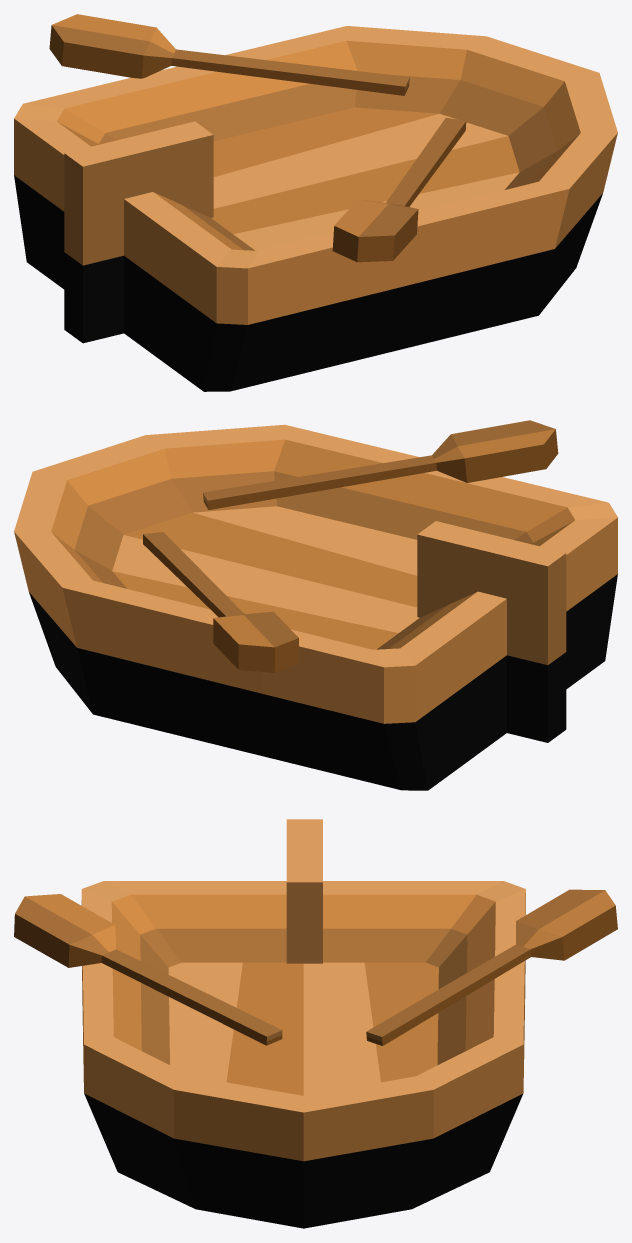
Rendered from raft_boat.fbx.
3 renders of one model, top to bottom at view 1: azimuth 30°, elevation 25°; view 2: azimuth 150°, elevation 25°; view 3: azimuth 270°, elevation 25°, orthographic.
Parts seen in each view (by area): view 1: raft_boat; view 2: raft_boat; view 3: raft_boat.
Boxes of the visible parts, bbox=[...] form: raft_boat: bbox=[14, 14, 617, 391]; raft_boat: bbox=[14, 420, 617, 790]; raft_boat: bbox=[14, 819, 617, 1228].
Size of the model in its own units: 1.67 by 1.69 by 0.5375.
